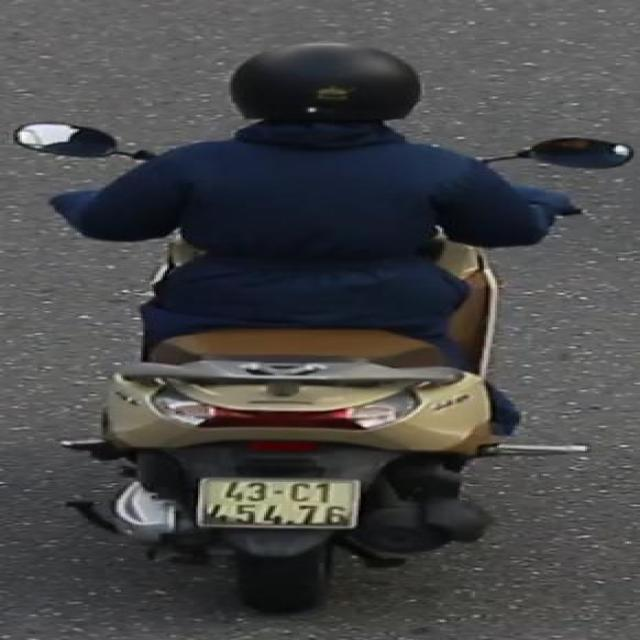LP: (192, 472, 368, 532)
helmet: (222, 36, 431, 146)
